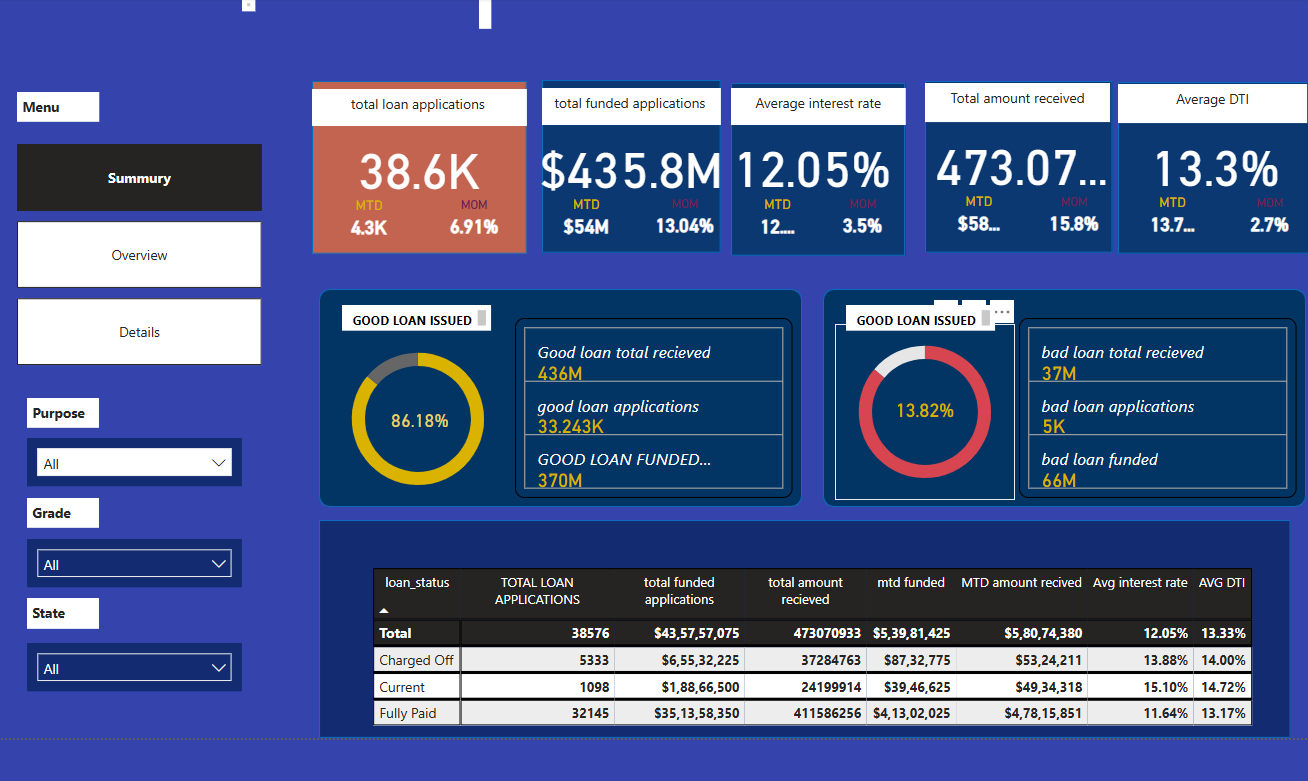

What the dashboard file says about the page in this screenshot:
{"tool":"powerbi","page":{"name":"Summury","canvas":[1280,720],"ordinal":0},"visuals":[{"type":"shape","box":[531.6,79.8,174.1,168.3],"z":0,"group":"g3"},{"type":"shape","box":[307.4,80.7,209.1,168.3],"z":0,"group":"g4"},{"type":"shape","box":[903.6,80.7,182.7,167.3],"z":0,"group":"g2"},{"type":"shape","box":[1091.3,81.7,186.4,167.3],"z":0,"group":"g5"},{"type":"group","id":"g1","title":"Group 1","box":[704,82.7,180.2,168.3],"z":0},{"type":"shape","box":[714.2,82.7,169.6,168.3],"z":0,"group":"g1"},{"type":"shape","box":[314.2,283,469.8,212],"z":0,"group":"g6"},{"type":"textbox","box":[903.6,82.7,180,37.9],"z":1000,"group":"g2"},{"type":"textbox","box":[1091.3,83.7,183.7,37.9],"z":1000,"group":"g5"},{"type":"textbox","box":[714.7,87.1,169.6,36],"z":1000,"group":"g1"},{"type":"textbox","box":[531.6,87.6,174.1,36],"z":1000,"group":"g3"},{"type":"textbox","box":[307.4,88.5,209.1,36],"z":1000,"group":"g4"},{"type":"shape","box":[795.6,283,469.8,212],"z":1000},{"type":"donutChart","fields":{"Y":["3 bank_loan_data (1).good loan %"],"Category":["3 bank_loan_data (1).Good vs Bad loan"]},"box":[323,323.9,175.1,171.2],"z":1000,"group":"g6"},{"type":"group","id":"g2","title":"Group 2","box":[903.6,80.7,182.9,167.3],"z":2000},{"type":"card","fields":{"Values":["3 bank_loan_data (1).total amount recieved"]},"box":[908.7,127.3,178,63.2],"z":2000,"group":"g2"},{"type":"card","fields":{"Values":["3 bank_loan_data (1).AVG DTI"]},"box":[1091.4,128.3,188.7,63.2],"z":2000,"group":"g5"},{"type":"card","fields":{"Values":["3 bank_loan_data (1).Avg interest rate"]},"box":[704,129.7,179,63.2],"z":2000,"group":"g1"},{"type":"card","fields":{"Values":["3 bank_loan_data (1).total funded applications"]},"box":[509.7,130.4,216.9,63.2],"z":2000,"group":"g3"},{"type":"card","fields":{"Values":["3 bank_loan_data (1).TOTAL LOAN APPLICATIONS"]},"box":[307.4,131.3,209.1,63.2],"z":2000,"group":"g4"},{"type":"textbox","box":[336.6,298.6,144.9,25.3],"z":2000,"group":"g6"},{"type":"card","title":"MTD","fields":{"Values":["3 bank_loan_data (1).MTD amount recived"]},"box":[928.7,190.7,54,43.8],"z":3000,"group":"g2"},{"type":"card","title":"MTD","fields":{"Values":["3 bank_loan_data (1).MTD AVG DTI"]},"box":[1116.9,191.7,55.1,43.8],"z":3000,"group":"g5"},{"type":"card","title":"MTD","fields":{"Values":["3 bank_loan_data (1).mtd avg"]},"box":[736,193.2,47.3,43.8],"z":3000,"group":"g1"},{"type":"card","title":"MTD","fields":{"Values":["3 bank_loan_data (1).mtd funded"]},"box":[546.4,193.9,54.7,43.8],"z":3000,"group":"g3"},{"type":"card","title":"MTD","fields":{"Values":["3 bank_loan_data (1).MTD"]},"box":[333.7,194.5,58.4,43.8],"z":3000,"group":"g4"},{"type":"cardVisual","fields":{"Data":["3 bank_loan_data (1).Good loan total recieved","3 bank_loan_data (1).good loan applications","3 bank_loan_data (1).GOOD LOAN FUNDED AMOUNT"]},"box":[504.8,311.2,270.4,175.1],"z":3000,"group":"g6"},{"type":"textbox","box":[339.5,515.5,144.9,25.3],"z":3000},{"type":"card","title":"MOM","fields":{"Values":["3 bank_loan_data (1).mom amount recieved"]},"box":[1014.4,191.5,67.7,42.8],"z":4000,"group":"g2"},{"type":"card","title":"MOM","fields":{"Values":["3 bank_loan_data (1).MOM AVG DTI"]},"box":[1204.4,192.5,69.1,42.8],"z":4000,"group":"g5"},{"type":"card","title":"MOM","fields":{"Values":["3 bank_loan_data (1).mom avg"]},"box":[810.9,193.2,63.1,43.8],"z":4000,"group":"g1"},{"type":"card","title":"MOM","fields":{"Values":["3 bank_loan_data (1).Mom funded"]},"box":[633,193.9,72.9,43.8],"z":4000,"group":"g3"},{"type":"card","title":"MOM","fields":{"Values":["3 bank_loan_data (1).MoM LOAN APP"]},"box":[426.1,194.5,77.8,43.8],"z":4000,"group":"g4"},{"type":"textbox","box":[324.9,515.5,144.9,25.3],"z":4000},{"type":"textbox","box":[333.6,524.3,144.9,25.3],"z":5000},{"type":"group","id":"g3","title":"Group 3","box":[509.7,79.8,216.9,168.3],"z":7000},{"type":"textbox","box":[826.7,298.6,144.9,25.3],"z":8000},{"type":"group","id":"g4","title":"Group 4","box":[307.4,80.7,209.1,168.3],"z":9000},{"type":"cardVisual","fields":{"Data":["3 bank_loan_data (1).bad loan total recieved","3 bank_loan_data (1).bad loan applications","3 bank_loan_data (1).bad loan funded"]},"box":[995,311.2,270.4,175.1],"z":10000},{"type":"group","id":"g5","title":"Group 2","box":[1091.3,81.7,188.7,167.3],"z":11000},{"type":"card","fields":{"Values":["3 bank_loan_data (1).good loan %"]},"box":[351.1,374.5,114.8,53.5],"z":12000},{"type":"group","id":"g6","title":"Group 5","box":[314.2,283,469.8,212],"z":13000},{"type":"card","fields":{"Values":["3 bank_loan_data (1).good loan %"]},"box":[370.6,395.9,83.6,31.1],"z":14000},{"type":"card","fields":{"Values":["3 bank_loan_data (1).good loan %"]},"box":[1181.1,676.3,83.6,31.1],"z":15000},{"type":"card","fields":{"Values":["3 bank_loan_data (1).good loan %"]},"box":[1185,688.9,83.6,31.1],"z":16000},{"type":"card","fields":{"Values":["3 bank_loan_data (1).Bad loan %"]},"box":[866.6,378.4,72.9,46.7],"z":17000},{"type":"shape","box":[314.2,507.7,945.4,212],"z":18000},{"type":"pivotTable","fields":{"Rows":["3 bank_loan_data (1).loan_status"],"Values":["3 bank_loan_data (1).TOTAL LOAN APPLICATIONS","3 bank_loan_data (1).total funded applications","3 bank_loan_data (1).total amount recieved","3 bank_loan_data (1).mtd funded","3 bank_loan_data (1).MTD amount recived","3 bank_loan_data (1).Avg interest rate","3 bank_loan_data (1).AVG DTI"]},"box":[361.8,549.5,877.3,170.2],"z":19000},{"type":"textbox","box":[239.3,0,12.6,12.6],"z":20000},{"type":"textbox","box":[469.8,0,11.7,30.2],"z":21000},{"type":"slicer","fields":{"Values":["3 bank_loan_data (1).purpose"]},"box":[30.2,428,209.1,46.7],"z":22000},{"type":"textbox","box":[30.2,389.1,70,29.2],"z":23000},{"type":"textbox","box":[30.2,486.3,70,29.2],"z":24000},{"type":"slicer","fields":{"Values":["3 bank_loan_data (1).grade"]},"box":[30.2,526.2,209.1,46.7],"z":25000},{"type":"slicer","fields":{"Values":["3 bank_loan_data (1).address_state"]},"box":[30.2,627.4,209.1,46.7],"z":26000},{"type":"textbox","box":[30.2,583.6,70,30.2],"z":27000},{"type":"textbox","box":[20.4,91.4,79.8,29.2],"z":28000},{"type":"pageNavigator","box":[20.4,142,238.3,217.9],"z":29000},{"type":"donutChart","fields":{"Y":["3 bank_loan_data (1).good loan %","3 bank_loan_data (1).Bad loan %"]},"box":[806.3,311.2,187.7,175.1],"z":29001}]}

Visuals, with their boxes on the page's 1280x720 design canvas (x1, y1, x2, y2). These are canvas units, not pixel positions in the 1308x781 screenshot, which may show the page scaled, cropped or inside an application window:
shape: 532:80:706:248
shape: 307:81:516:249
shape: 904:81:1086:248
shape: 1091:82:1278:249
"Group 1" group: 704:83:884:251
shape: 714:83:884:251
shape: 314:283:784:495
textbox: 904:83:1084:121
textbox: 1091:84:1275:122
textbox: 715:87:884:123
textbox: 532:88:706:124
textbox: 307:88:516:124
shape: 796:283:1265:495
donutChart - 3 bank_loan_data (1).good loan % x 3 bank_loan_data (1).Good vs Bad loan: 323:324:498:495
"Group 2" group: 904:81:1086:248
card - 3 bank_loan_data (1).total amount recieved: 909:127:1087:190
card - 3 bank_loan_data (1).AVG DTI: 1091:128:1280:192
card - 3 bank_loan_data (1).Avg interest rate: 704:130:883:193
card - 3 bank_loan_data (1).total funded applications: 510:130:727:194
card - 3 bank_loan_data (1).TOTAL LOAN APPLICATIONS: 307:131:516:194
textbox: 337:299:482:324
"MTD" card: 929:191:983:234
"MTD" card: 1117:192:1172:236
"MTD" card: 736:193:783:237
"MTD" card: 546:194:601:238
"MTD" card: 334:194:392:238
cardVisual - 3 bank_loan_data (1).Good loan total recieved x 3 bank_loan_data (1).good loan applications: 505:311:775:486
textbox: 340:516:484:541
"MOM" card: 1014:192:1082:234
"MOM" card: 1204:192:1274:235
"MOM" card: 811:193:874:237
"MOM" card: 633:194:706:238
"MOM" card: 426:194:504:238
textbox: 325:516:470:541
textbox: 334:524:478:550
"Group 3" group: 510:80:727:248
textbox: 827:299:972:324
"Group 4" group: 307:81:516:249
cardVisual - 3 bank_loan_data (1).bad loan total recieved x 3 bank_loan_data (1).bad loan applications: 995:311:1265:486
"Group 2" group: 1091:82:1280:249
card - 3 bank_loan_data (1).good loan %: 351:374:466:428
"Group 5" group: 314:283:784:495
card - 3 bank_loan_data (1).good loan %: 371:396:454:427
card - 3 bank_loan_data (1).good loan %: 1181:676:1265:707
card - 3 bank_loan_data (1).good loan %: 1185:689:1269:720
card - 3 bank_loan_data (1).Bad loan %: 867:378:940:425
shape: 314:508:1260:720
pivotTable - 3 bank_loan_data (1).loan_status x 3 bank_loan_data (1).TOTAL LOAN APPLICATIONS: 362:550:1239:720
textbox: 239:0:252:13
textbox: 470:0:482:30
slicer - 3 bank_loan_data (1).purpose: 30:428:239:475
textbox: 30:389:100:418
textbox: 30:486:100:516
slicer - 3 bank_loan_data (1).grade: 30:526:239:573
slicer - 3 bank_loan_data (1).address_state: 30:627:239:674
textbox: 30:584:100:614
textbox: 20:91:100:121
pageNavigator: 20:142:259:360
donutChart - 3 bank_loan_data (1).good loan % x 3 bank_loan_data (1).Bad loan %: 806:311:994:486
